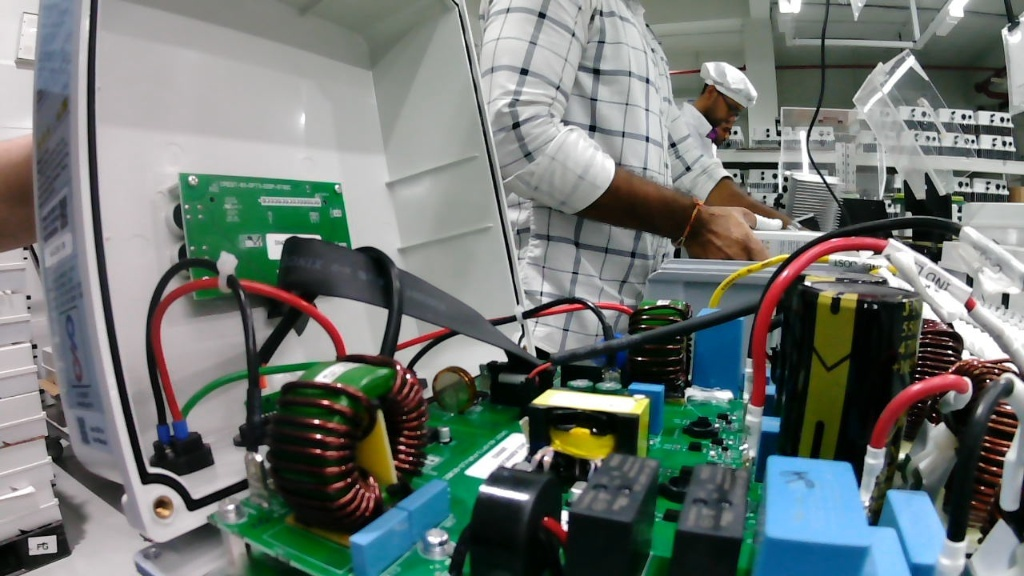wire_red: (124, 333, 226, 478)
